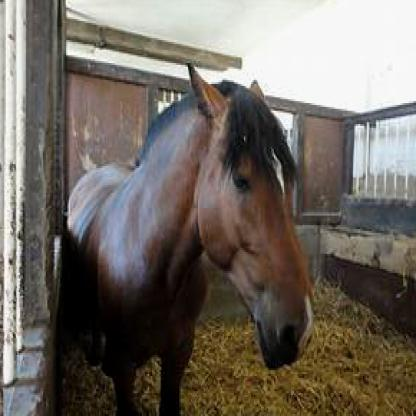horse: (63, 61, 314, 414)
